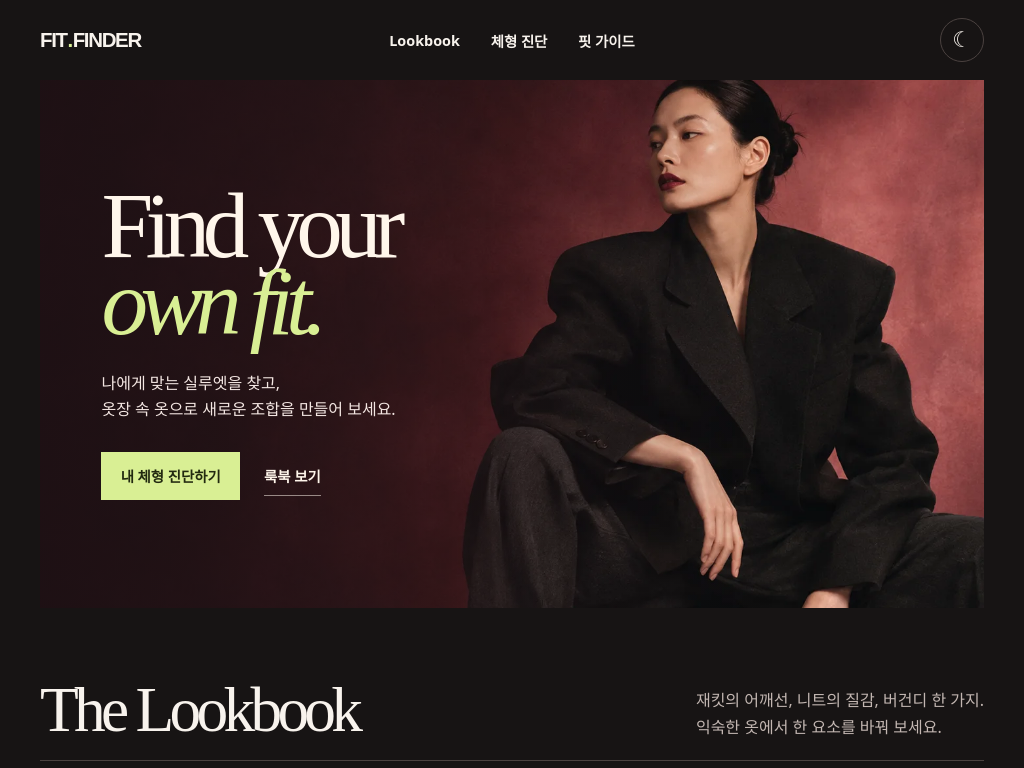
Test: renders the fashion homepage and switches from dark to light and back
Step 1. Click the button named "어두운 테마" → (962,40), box [940,18,984,62]
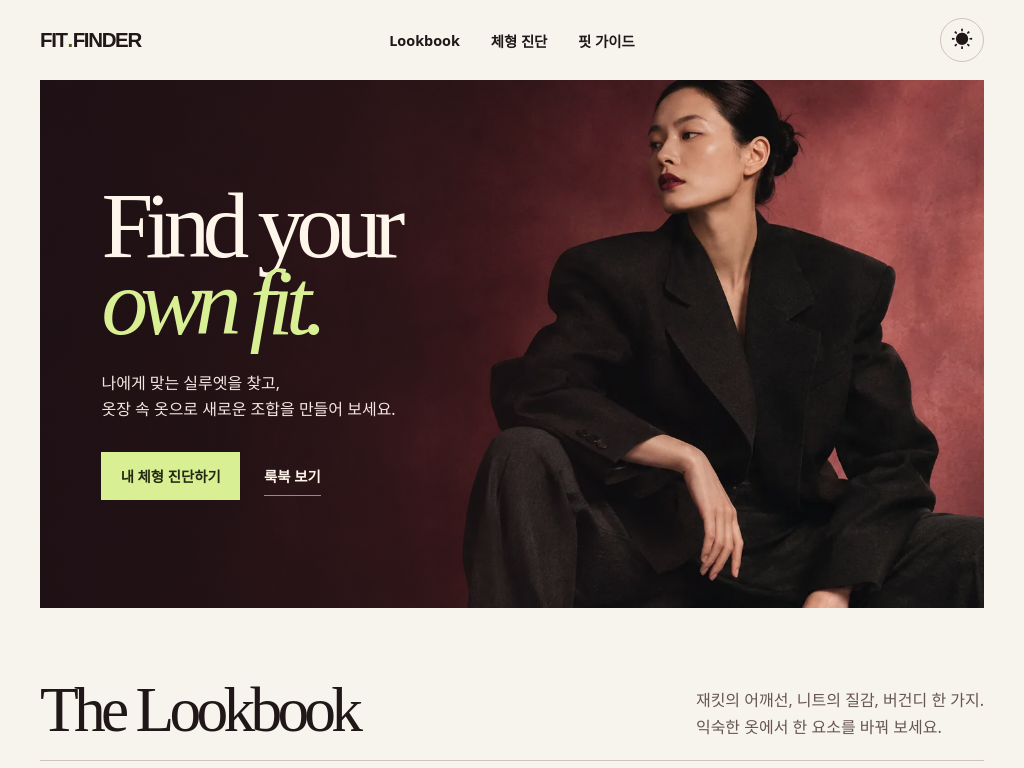
Expected: the button named "어두운 테마" is not pressed
Step 2. Click the button named "어두운 테마" → (962,40), box [940,18,984,62]
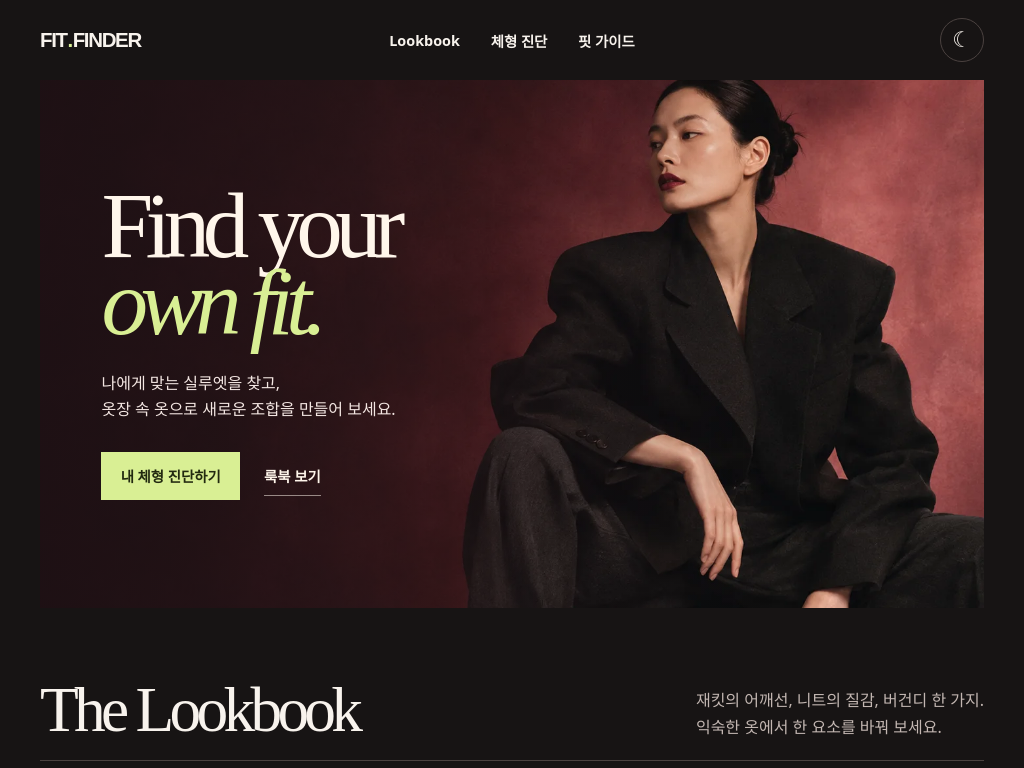
Expected: the button named "어두운 테마" is pressed, [940,18,984,62]
